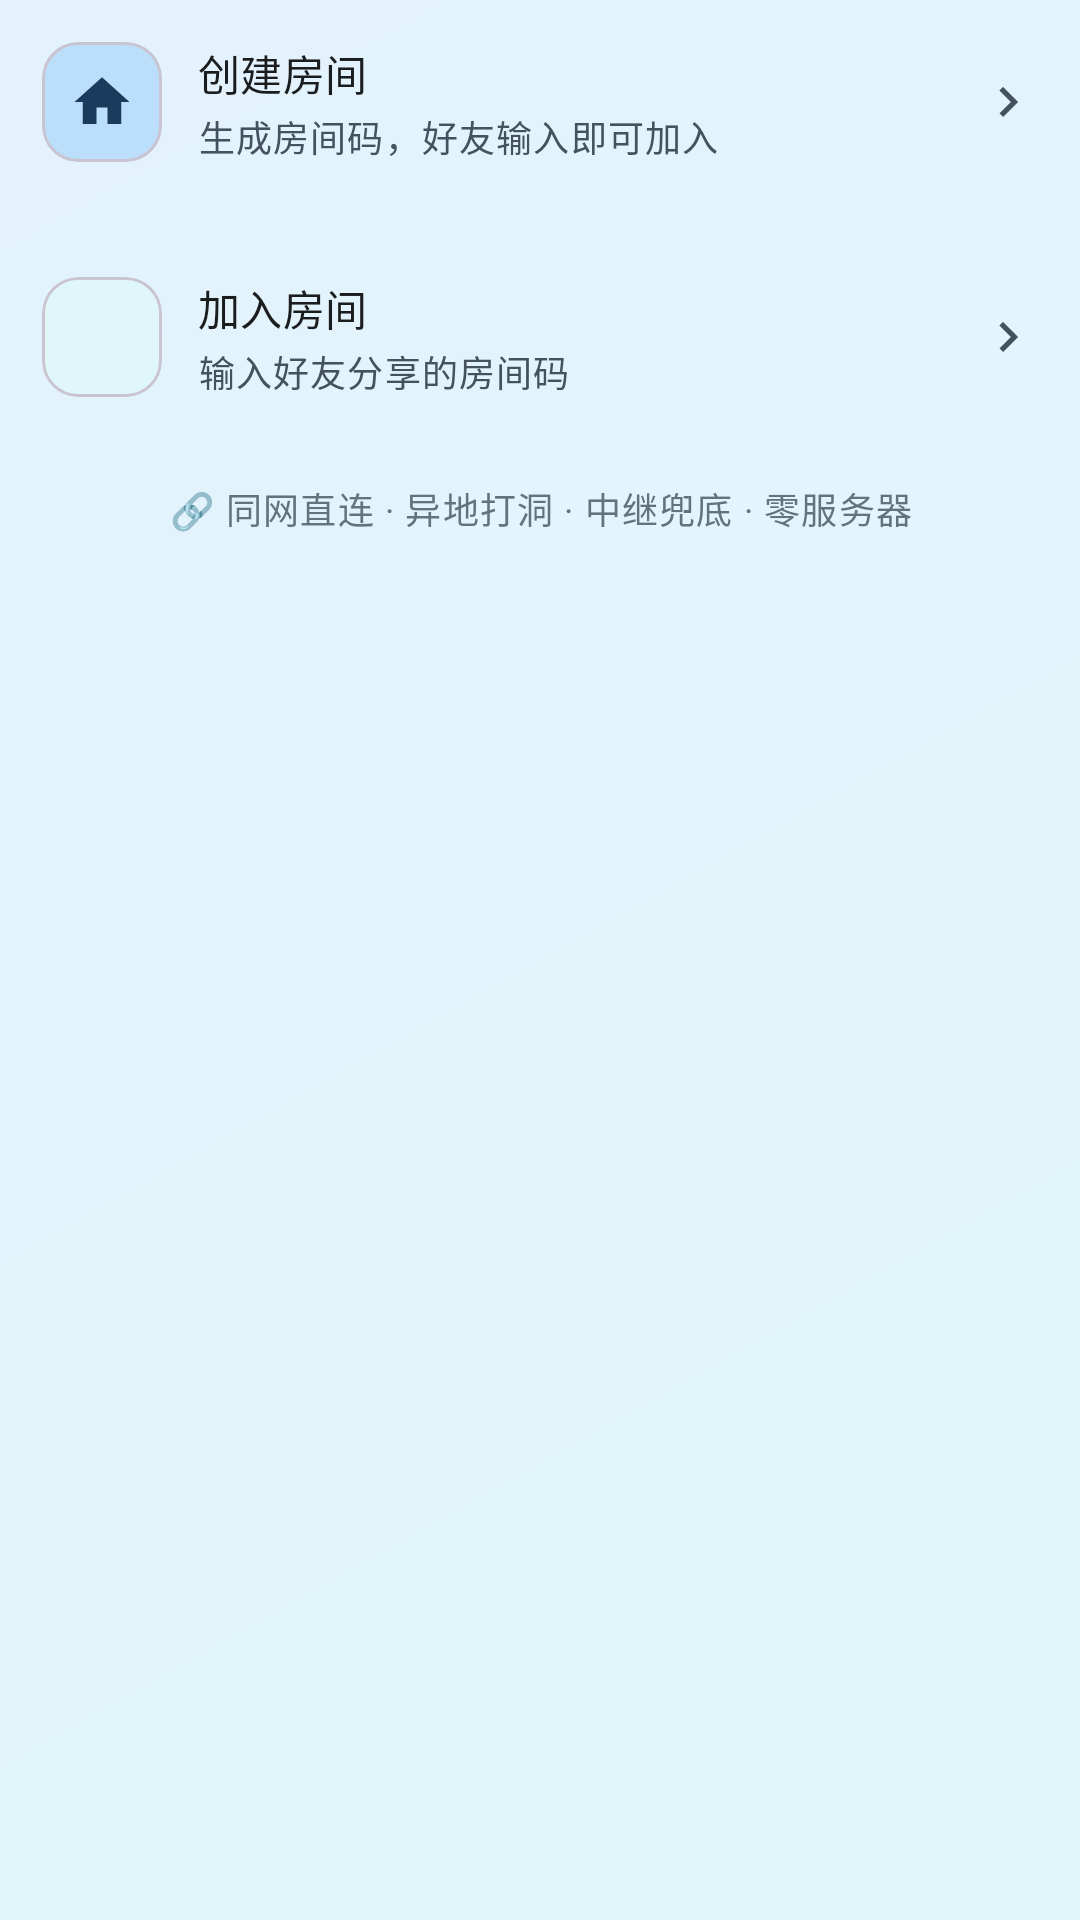

Icons on this 1080 × 1920 Android screen, each with its box as (x1, y1, x2, y2):
进入: (999, 87, 1018, 117), (999, 322, 1018, 352)
